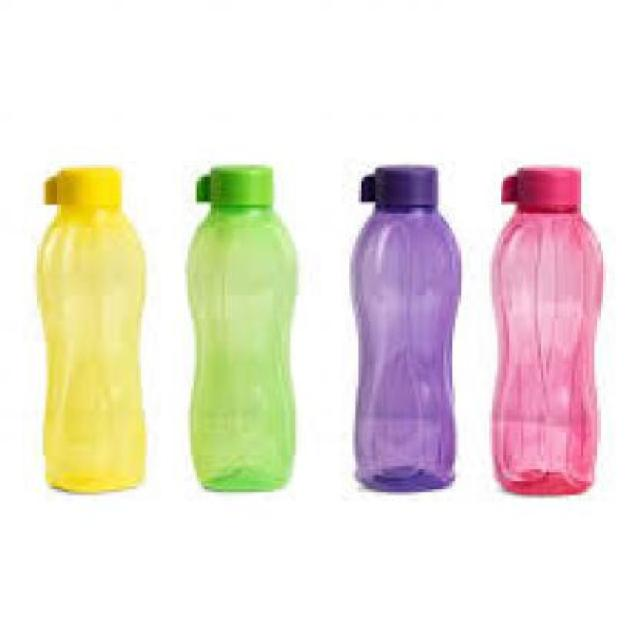Drinking: (470, 161, 608, 500), (32, 156, 153, 512), (336, 159, 458, 484)
